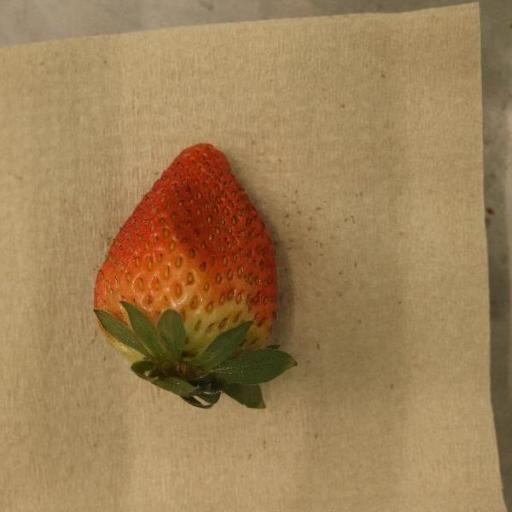Strawberry: (94, 144, 299, 410)
